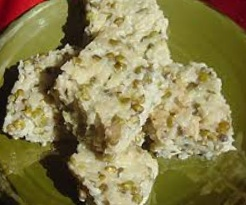kiribath: (51, 20, 174, 161), (145, 60, 235, 159), (4, 44, 78, 144), (69, 133, 159, 205)
